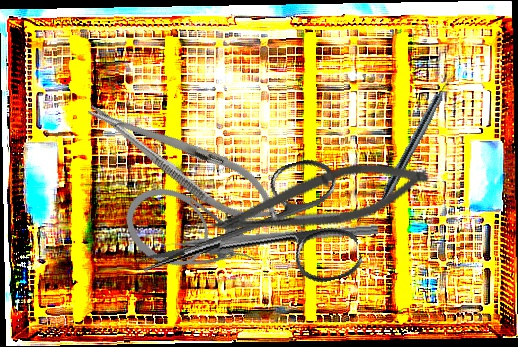Cannula: (112, 173, 268, 303)
Handpiece: (377, 71, 458, 206)
Iris Scissors: (126, 152, 366, 327)
Micro Scissor: (204, 143, 435, 262)
Needle Holder: (77, 85, 292, 239)
Pusher: (148, 222, 379, 251)
